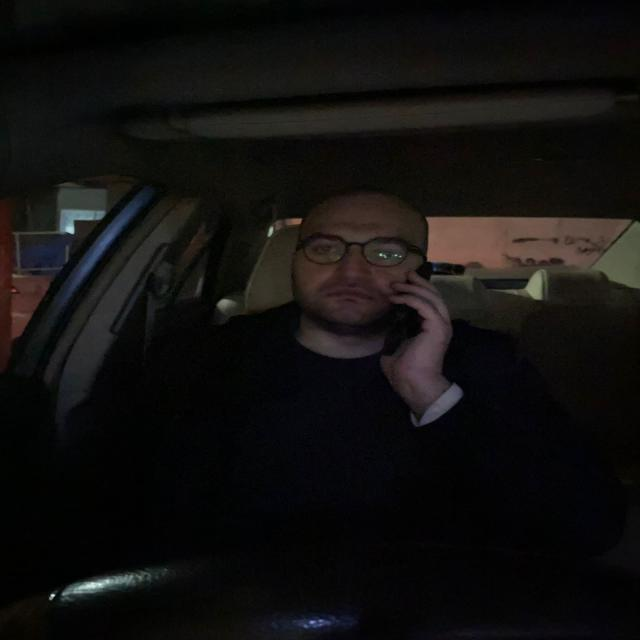phone: (384, 259, 440, 354)
